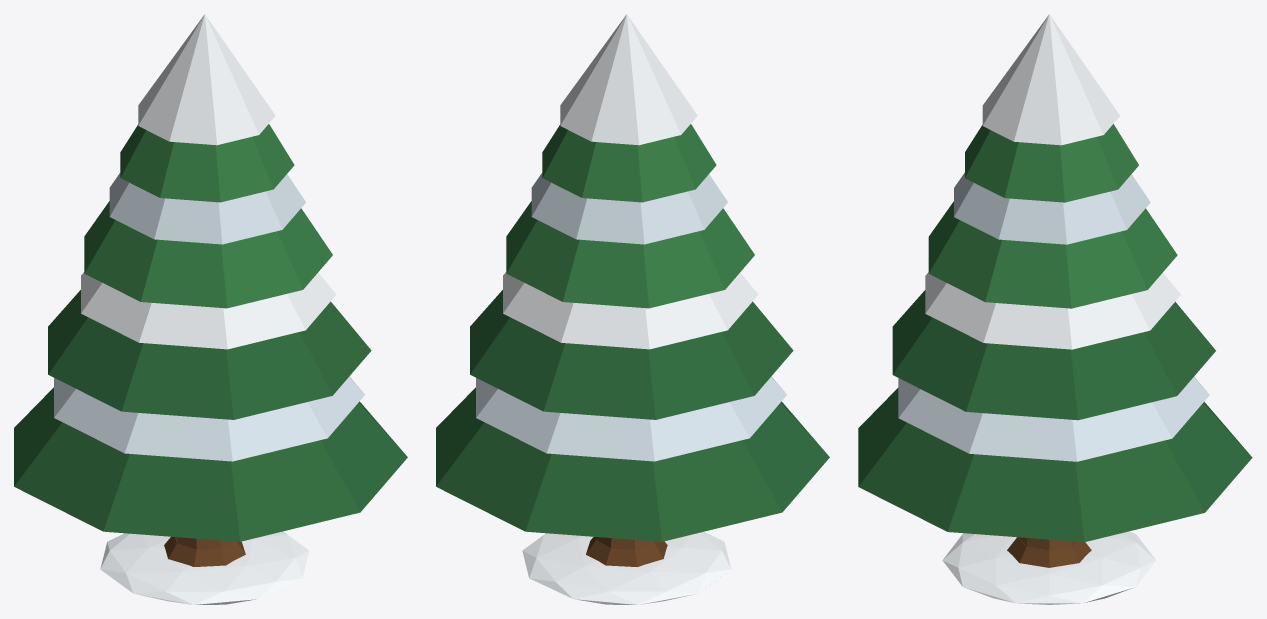
Rendered from tree-pine-snow.glb.
3 views of the same model, side by side, from view 1: azimuth 30°, elevation 25°; view 2: azimuth 150°, elevation 25°; view 3: azimuth 270°, elevation 25° (orthographic).
Parts seen in each view (by area): view 1: PineSnow_Crown, PineSnow_Trunk; view 2: PineSnow_Crown, PineSnow_Trunk; view 3: PineSnow_Crown, PineSnow_Trunk.
Part boxes in pixels (<box>): PineSnow_Crown: <box>14,14,407,604</box>; PineSnow_Trunk: <box>164,536,245,566</box>; PineSnow_Crown: <box>436,14,829,604</box>; PineSnow_Trunk: <box>586,537,667,566</box>; PineSnow_Crown: <box>858,14,1252,604</box>; PineSnow_Trunk: <box>1007,537,1091,567</box>.
Size of the model in its own units: 1.87 by 2.88 by 1.84.
